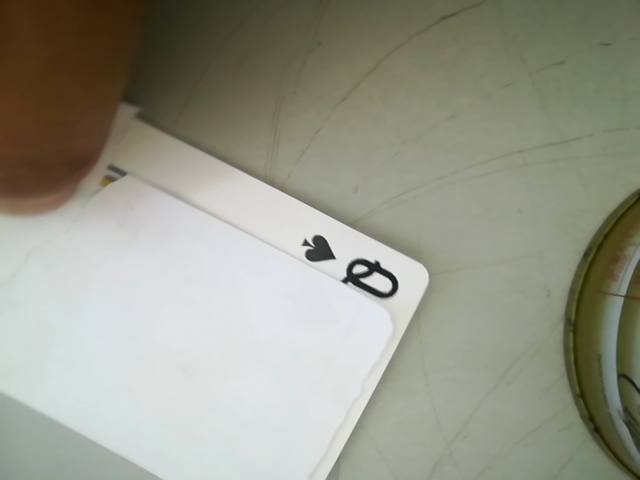ht q: (287, 224, 424, 309)
